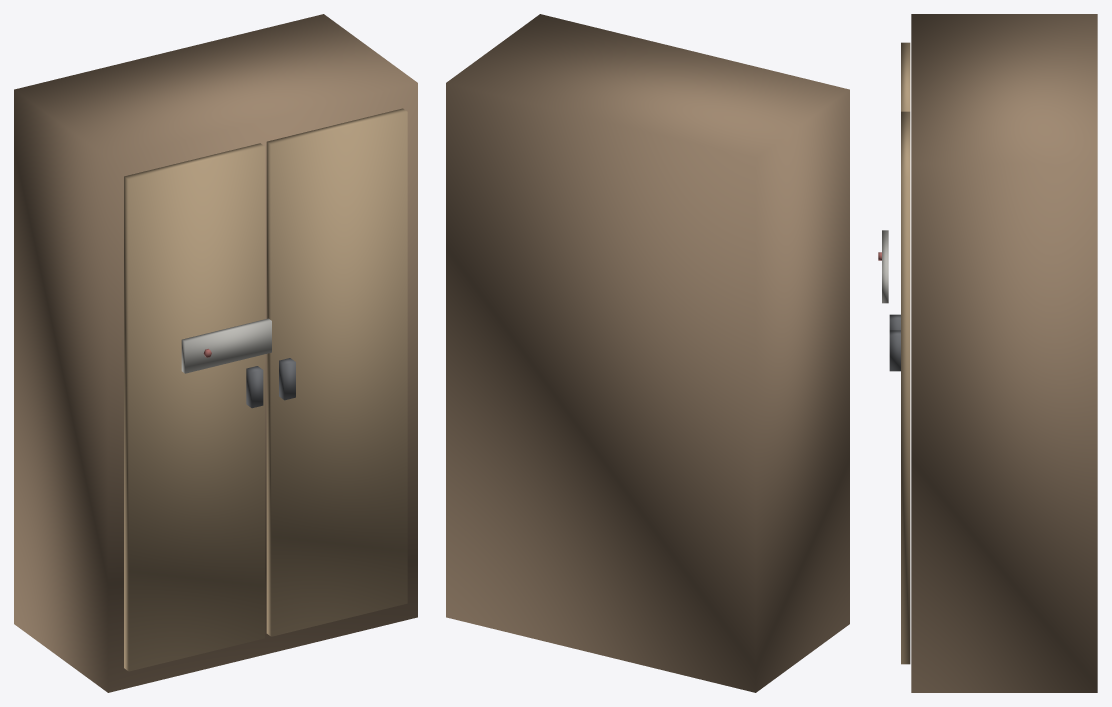
Rendered from dental_instrument_cabinet__tall.glb.
The picture shows the model from 3 angles, left to right: view 1: azimuth 30°, elevation 25°; view 2: azimuth 150°, elevation 25°; view 3: azimuth 270°, elevation 25°; orthographic projection.
Visible parts, largest first — view 1: world; view 2: world; view 3: world.
Boxes of the visible parts, left/top/right/bottom form: world: left=14, top=14, right=417, bottom=692; world: left=446, top=14, right=849, bottom=692; world: left=878, top=14, right=1097, bottom=692.
Bounding box in the file's own units: 0.95 × 1.57 × 0.5885.
